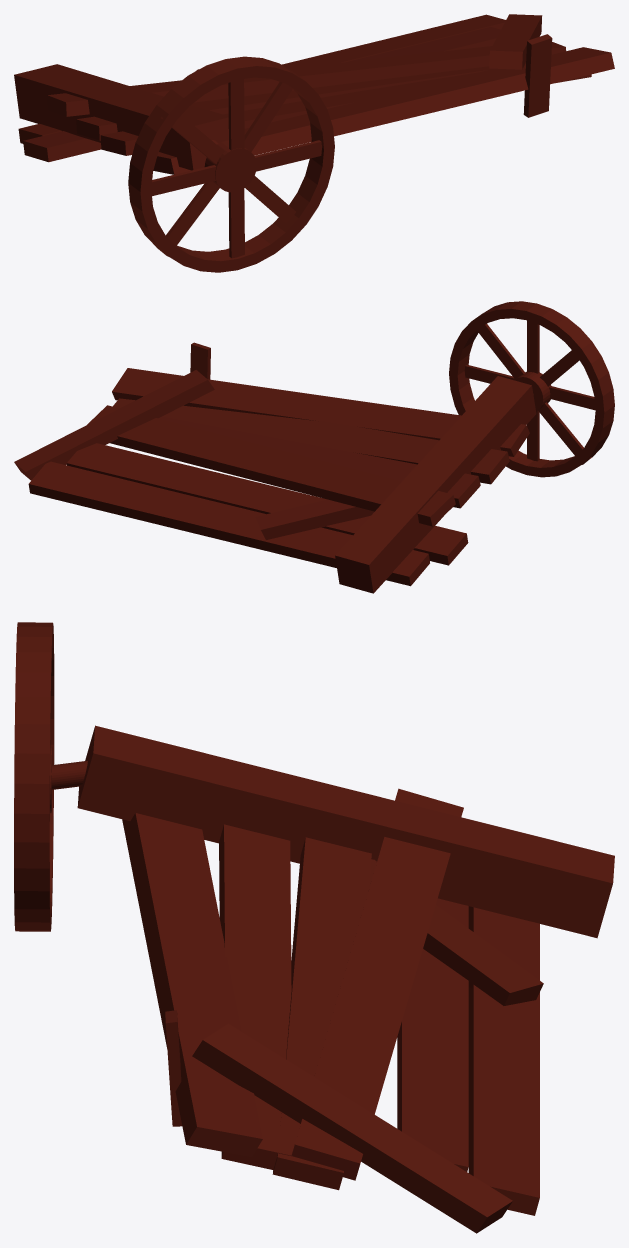
The model's file is carroça destruida.fbx.
3 views of the same model, one above another, from view 1: azimuth 30°, elevation 25°; view 2: azimuth 150°, elevation 25°; view 3: azimuth 270°, elevation 25° (orthographic). The views are drawn at different scales.
Parts seen in each view (by area): view 1: Cube.001; view 2: Cube.001; view 3: Cube.001.
Boxes of the visible parts, x1,y1,x2,y2 form: Cube.001: (14, 14, 614, 272); Cube.001: (14, 301, 614, 593); Cube.001: (14, 622, 614, 1233).
Size of the model in its own units: 744 by 254 by 488.
